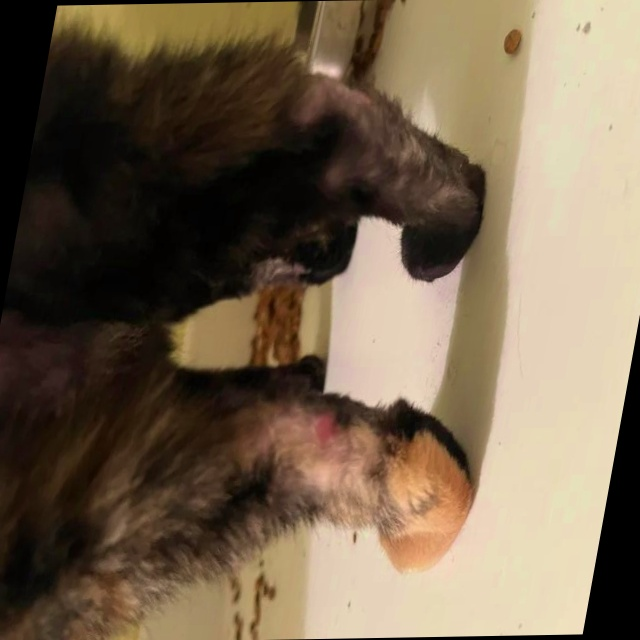hairloss: (255, 418, 405, 468), (307, 77, 379, 122)
